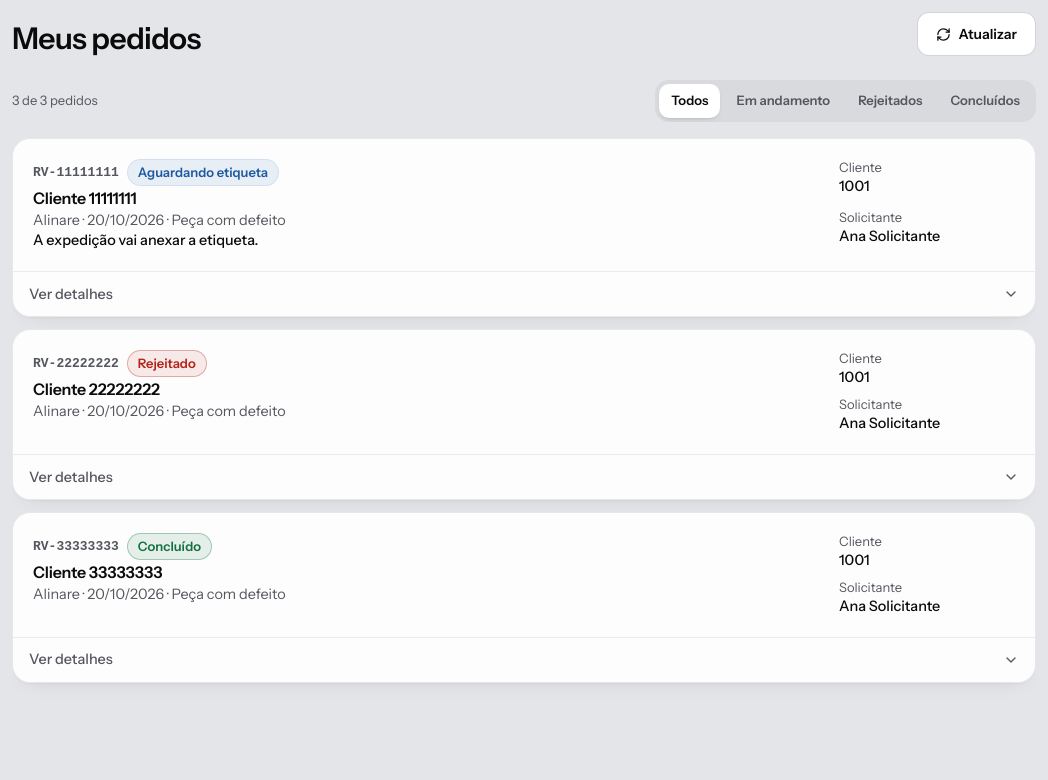
Scenario: MeusPedidosPage › lista solicitações em andamento, rejeitadas e concluídas com uma situação e o próximo passo
Expected: the heading "Cliente 11111111" is shown, [33,188,136,208]
Expected: the heading "Cliente 22222222" is shown, [33,379,160,399]
Click the button "Rejeitados": (890, 101) [846,84,934,118]
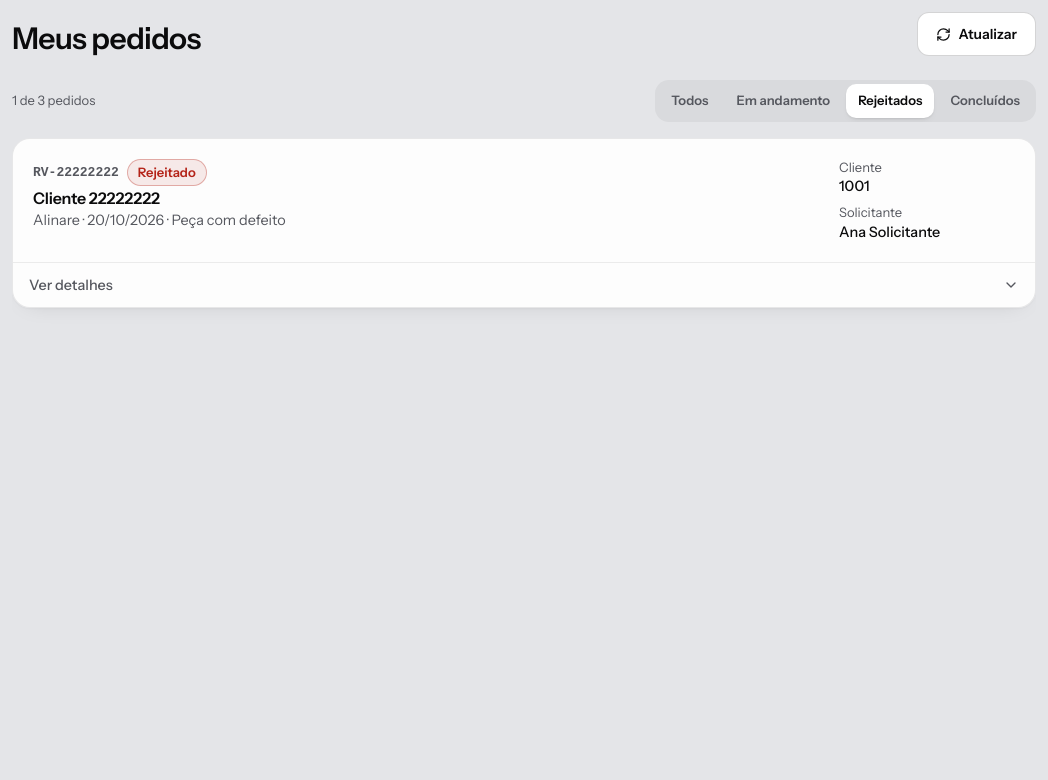
Expected: the heading "Cliente 22222222" is shown, [33,188,160,208]
Result: the heading "Cliente 11111111" is gone
Result: the heading "Cliente 33333333" is gone
Click the button "Concluídos": (985, 101) [938,84,1032,118]
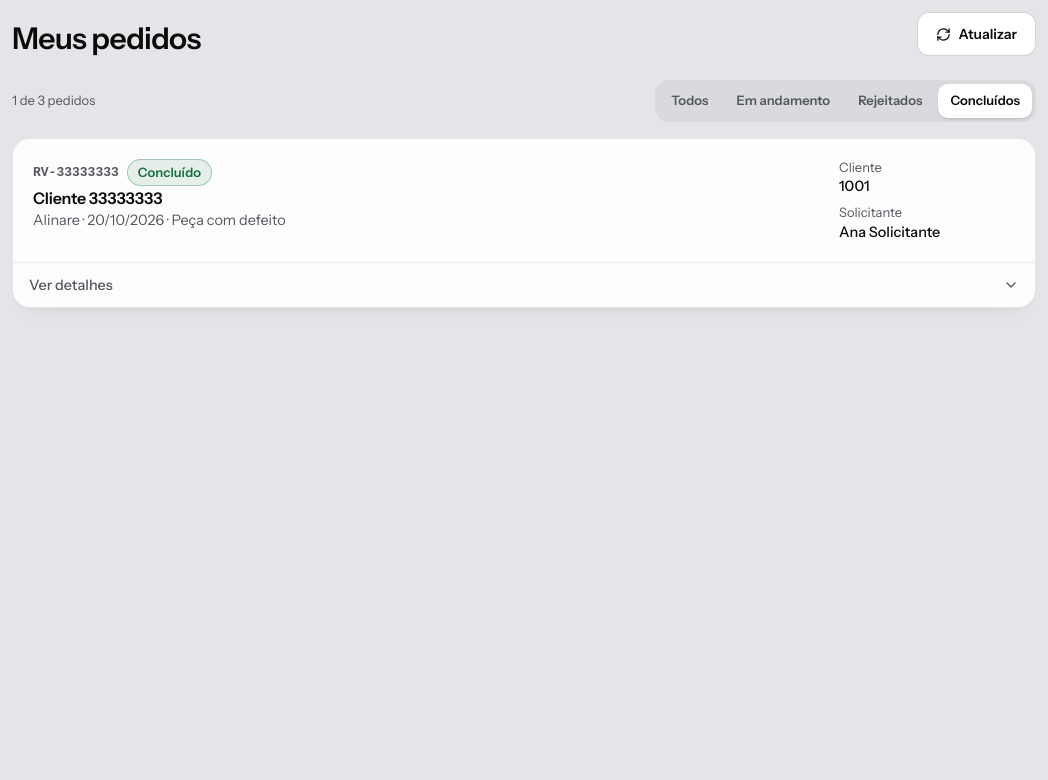
Result: the heading "Cliente 33333333" is shown at [33,188,162,208]
Result: the heading "Cliente 22222222" is gone
